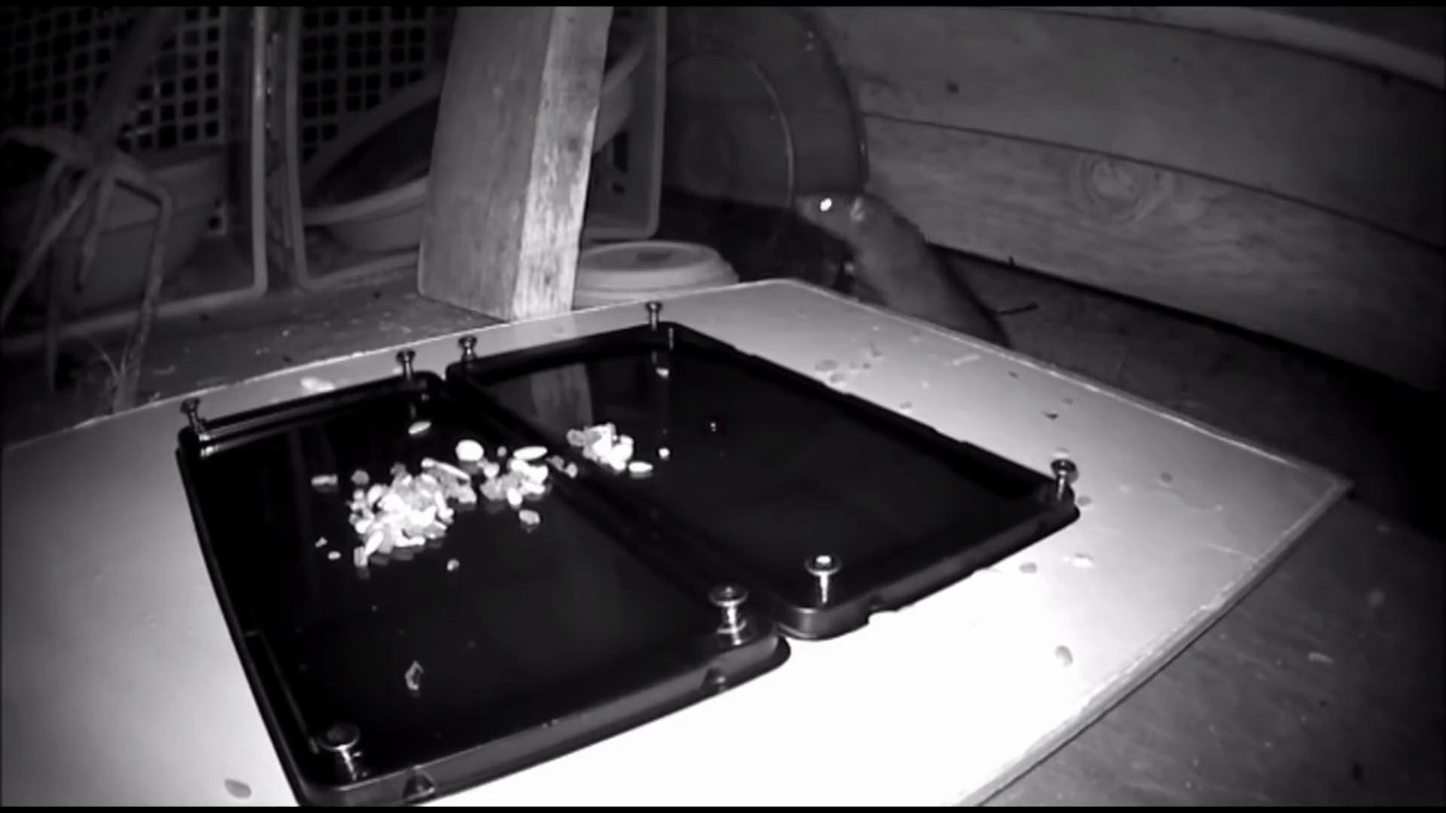rat: (789, 181, 1000, 337)
